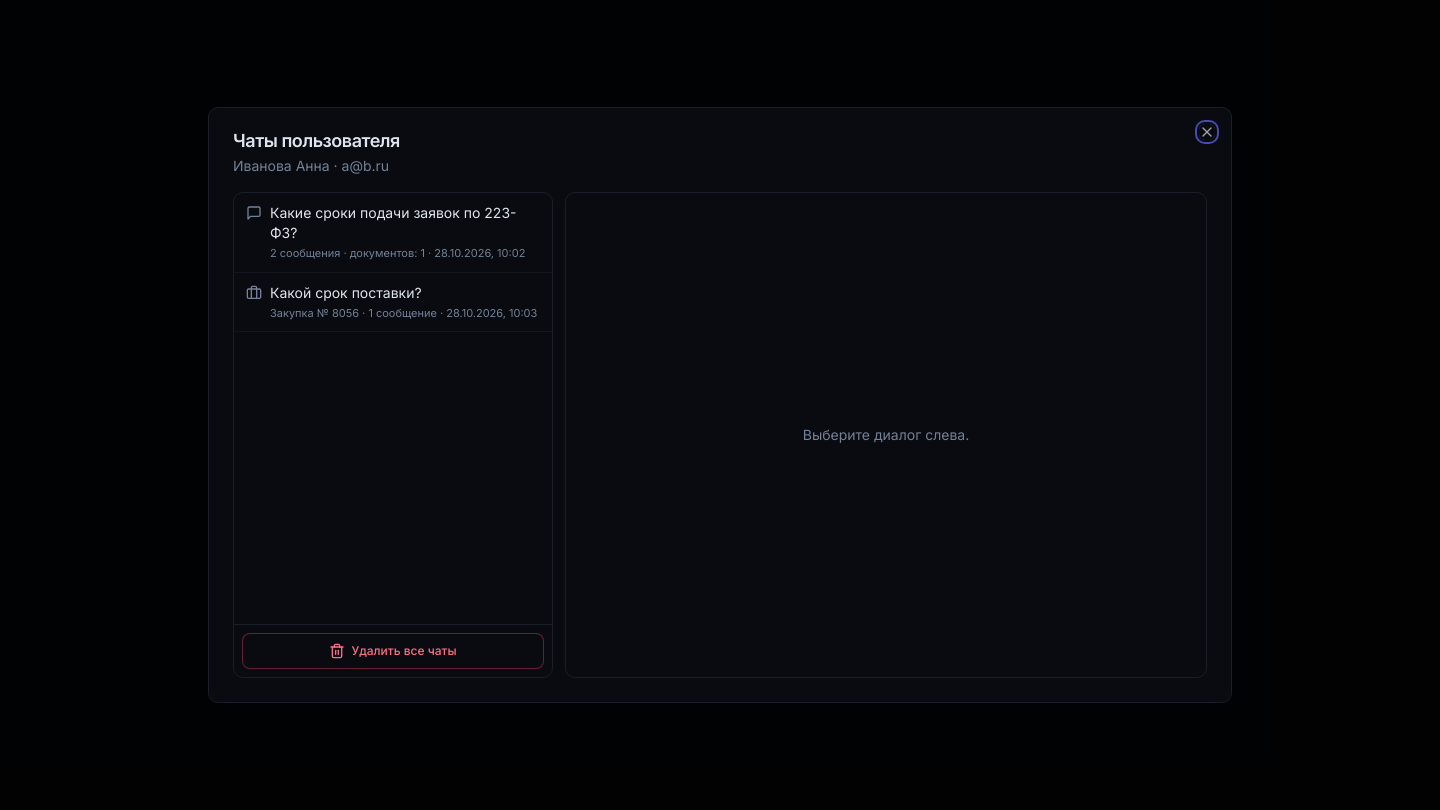
Test: UserChatsDialog › открытый диалог — переписка целиком и прикреплённые документы
This screenshot has width=1440, height=810.
Click the text "Какие сроки подачи заявок по 223-ФЗ?" at [405, 223], box [270, 203, 540, 243]
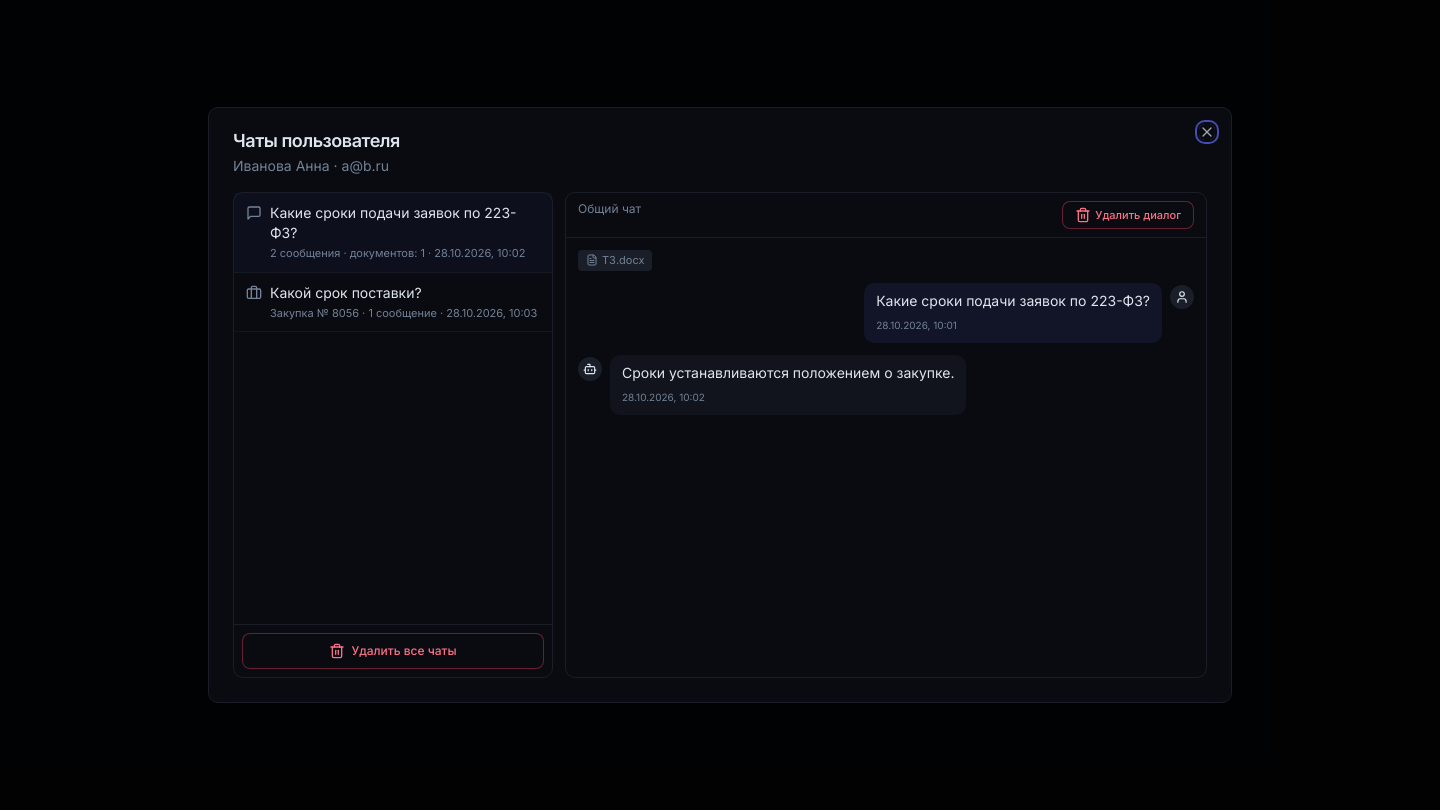
expect the text "Сроки устанавливаются положением о закупке." is shown: met, box [622, 362, 954, 382]
expect the text "ТЗ.docx" is shown: met, box [578, 250, 652, 270]
